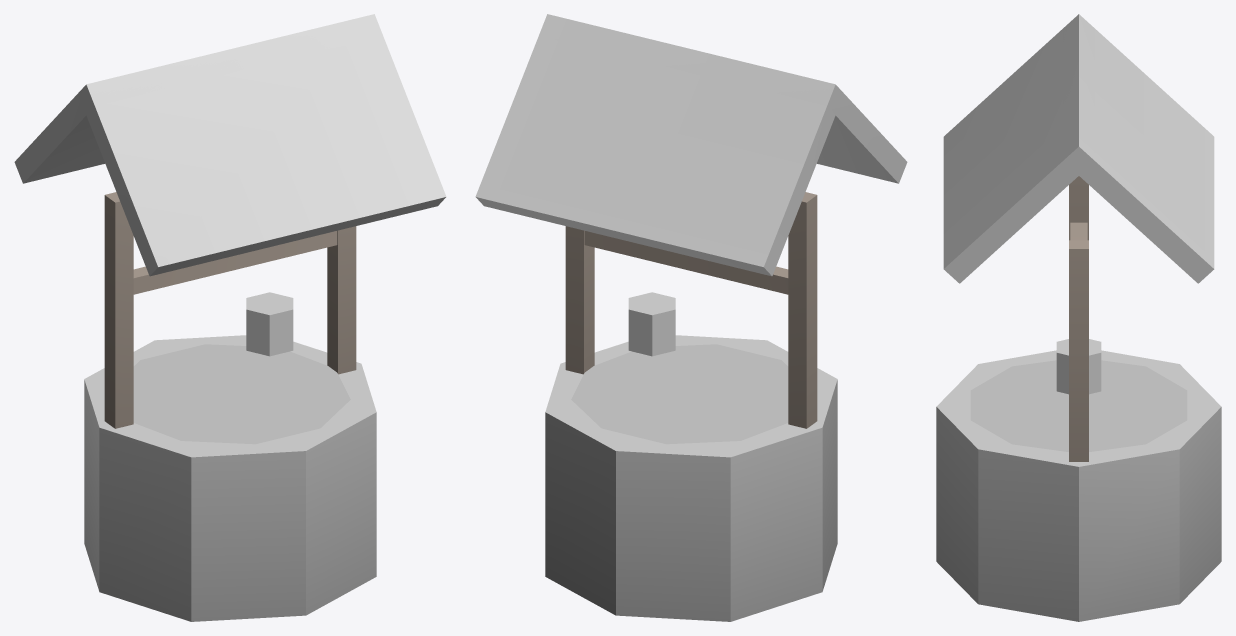
The model's file is well_0.glb.
3 renders of one model, left to right at view 1: azimuth 30°, elevation 25°; view 2: azimuth 150°, elevation 25°; view 3: azimuth 270°, elevation 25°, orthographic. The views are drawn at different scales.
Visible parts, largest first — view 1: well_0; view 2: well_0; view 3: well_0.
Part boxes in pixels (x1,y1,x2,y2): well_0: (14, 14, 446, 621); well_0: (475, 14, 907, 621); well_0: (936, 14, 1221, 621).
Size of the model in its own units: 2.2 by 3.73 by 2.
